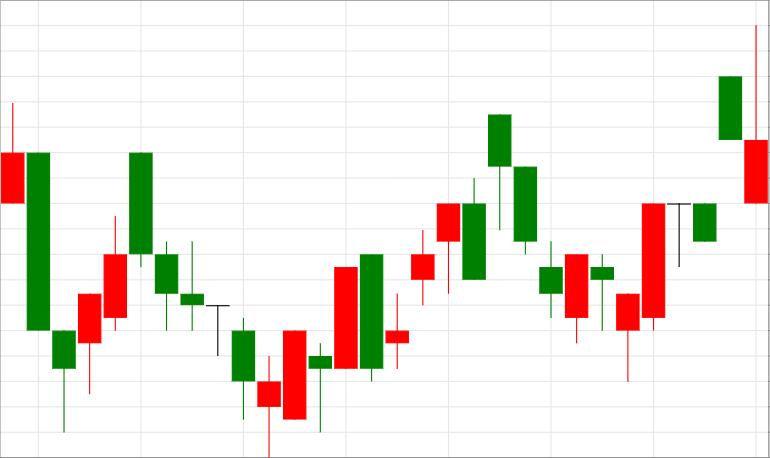bearish_engulfing_fall: (258, 254, 383, 457)
hammer_rise: (488, 115, 639, 381)
hanging_man_fall: (309, 204, 459, 432)
